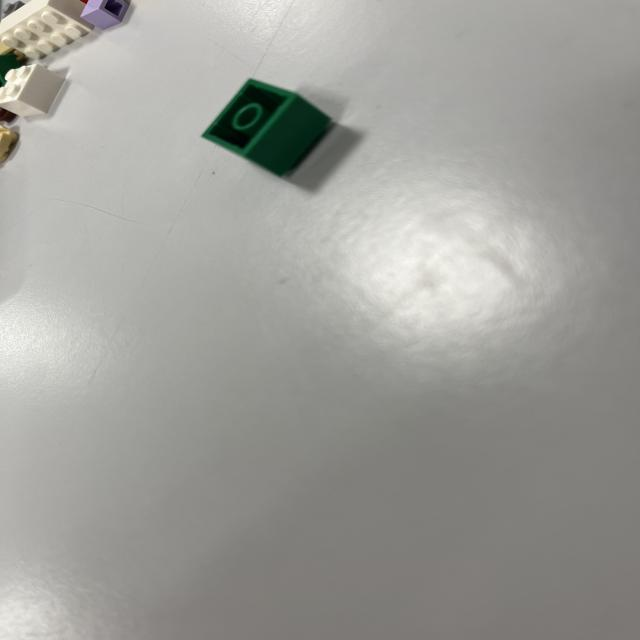C2x2x1: (208, 80, 340, 180)
